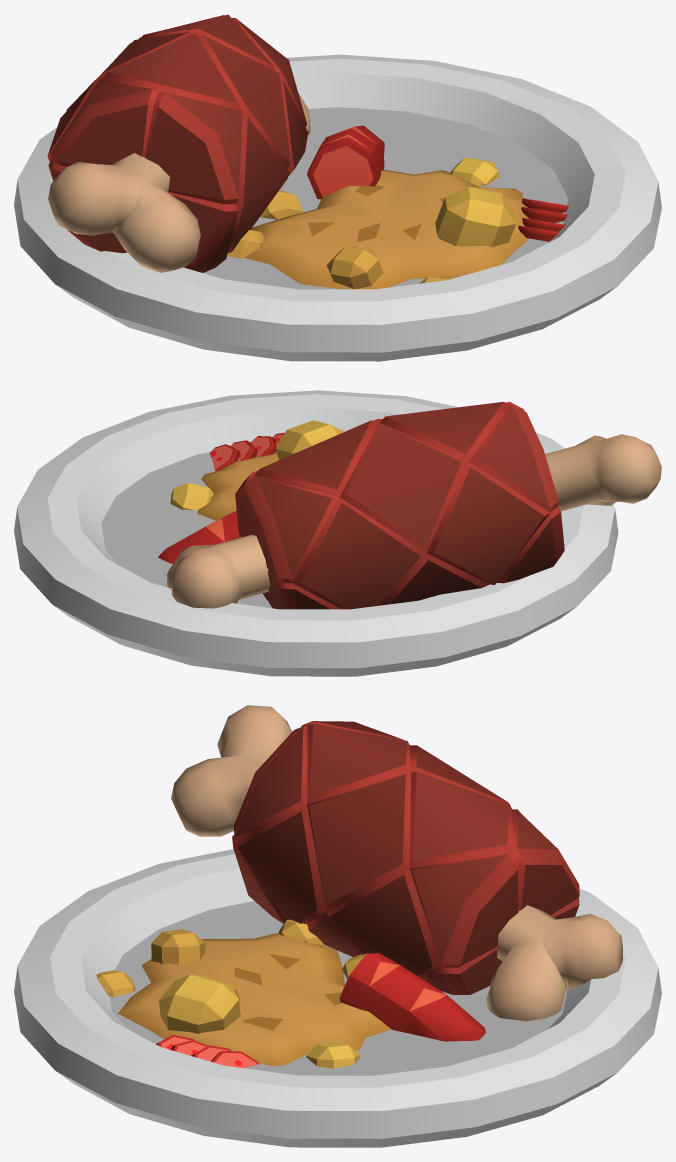
The model's file is Dish_3__LV_4.glb.
3 views of the same model, one above another, from view 1: azimuth 30°, elevation 25°; view 2: azimuth 150°, elevation 25°; view 3: azimuth 270°, elevation 25° (orthographic). The views are drawn at different scales.
Visible parts, largest first — view 1: Dish_3__LV_4; view 2: Dish_3__LV_4; view 3: Dish_3__LV_4.
Part boxes in pixels (x1,y1,x2,y2): Dish_3__LV_4: (14, 14, 661, 361); Dish_3__LV_4: (14, 390, 661, 676); Dish_3__LV_4: (14, 705, 661, 1147).
Size of the model in its own units: 0.6724 by 0.2428 by 0.6262.
Materials: 1 (1 with a texture image).
